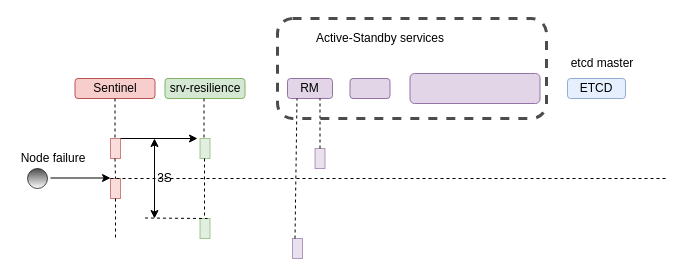
Image size: 686x276. Some labels were removed from this diagram. Each missing label, with the centre of its shape:
"rphyman, telemetry, packet cable..." belongs at (x=474, y=88).
"SFC" belongs at (x=369, y=88).
